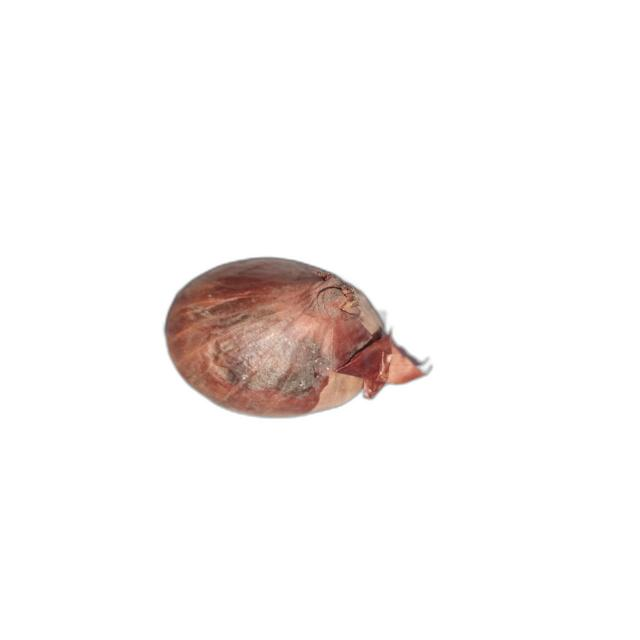onion: (163, 257, 430, 419)
